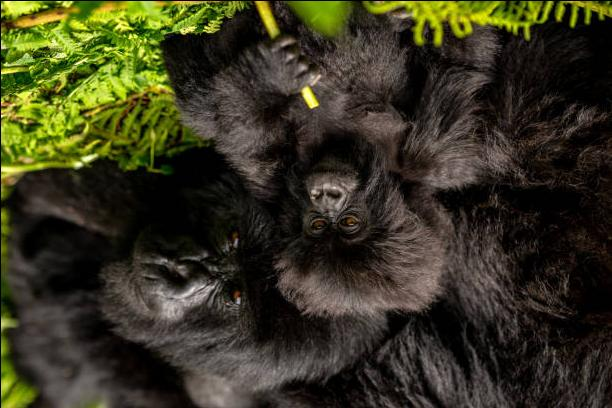goriile_montagne: (0, 168, 328, 408), (169, 40, 451, 302)
